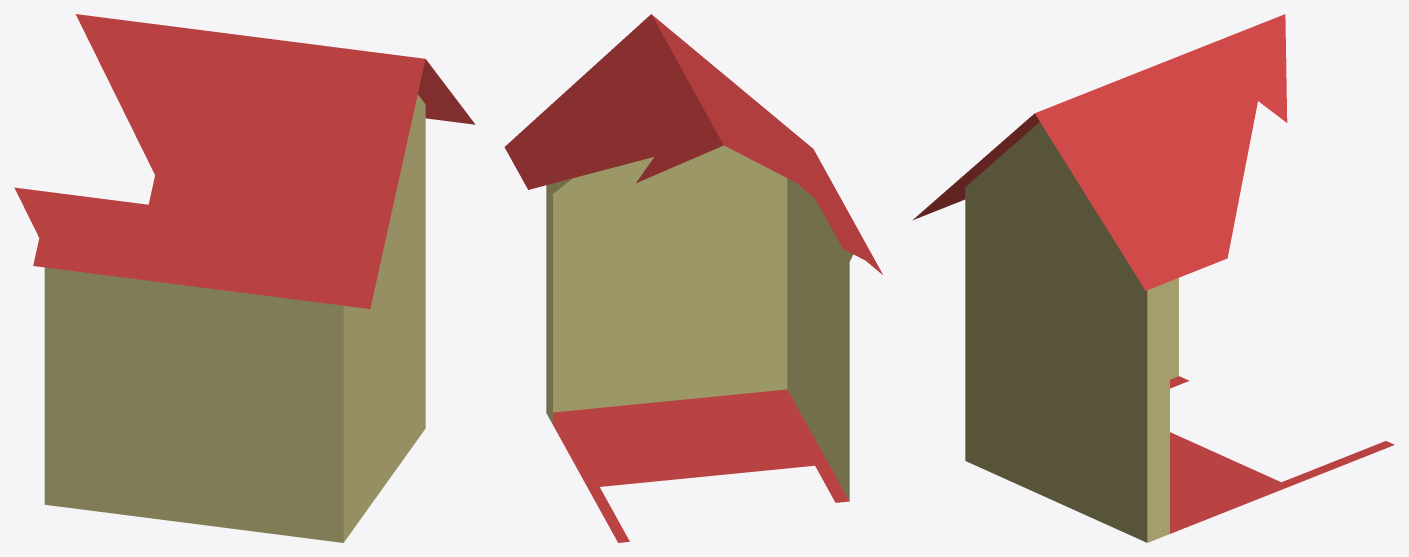
The picture shows the model from 3 angles, left to right: view 1: azimuth 30°, elevation 25°; view 2: azimuth 150°, elevation 25°; view 3: azimuth 270°, elevation 25°; orthographic projection. The views are drawn at different scales.
Size of the model in its own units: 12.64 by 12.84 by 11.79.
